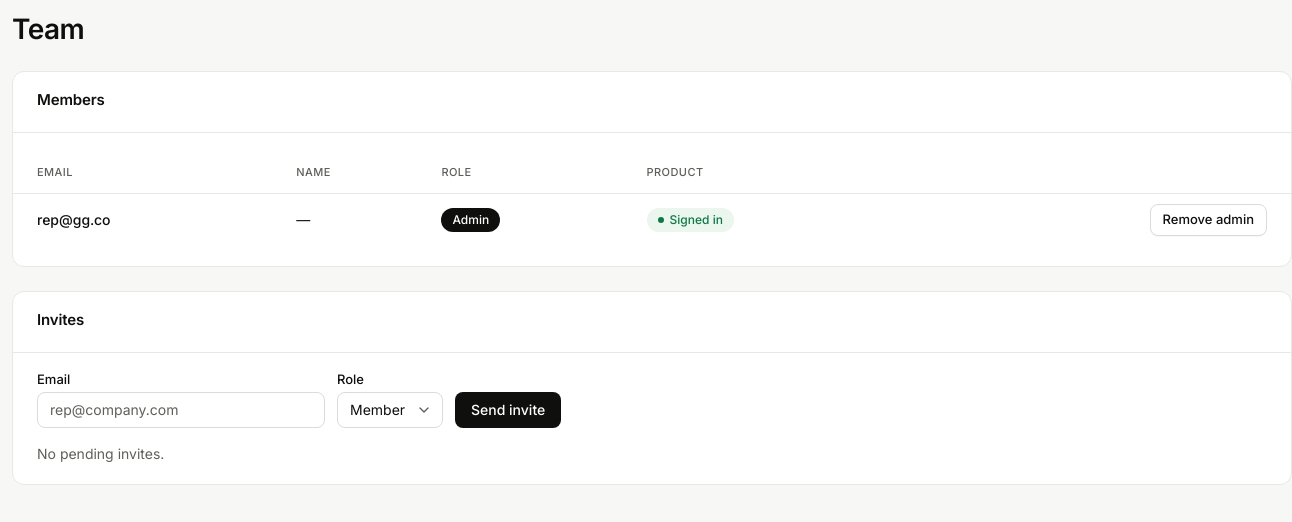
Test: TeamPage › renders a friendly message when a PATCH is rejected as a self-demotion
Expected: the text "rep@gg.co" is shown, [13,193,284,246]
Click the button "Remove admin" at (1208, 220), box [1150,204,1267,236]
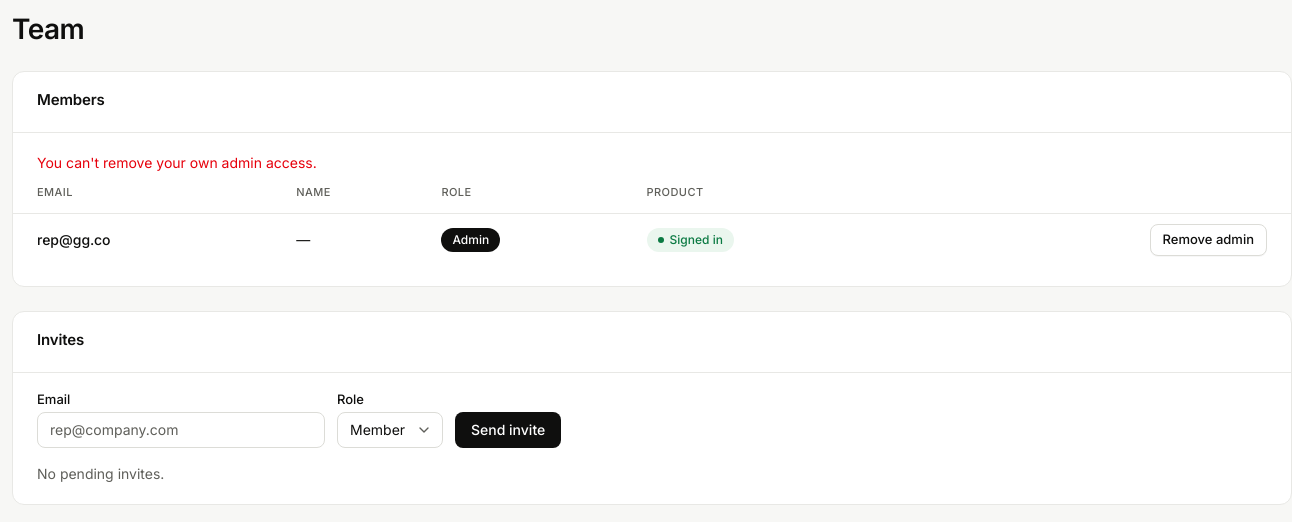
Expected: the text "You can't remove your own admin access." is shown, [37,154,317,171]
